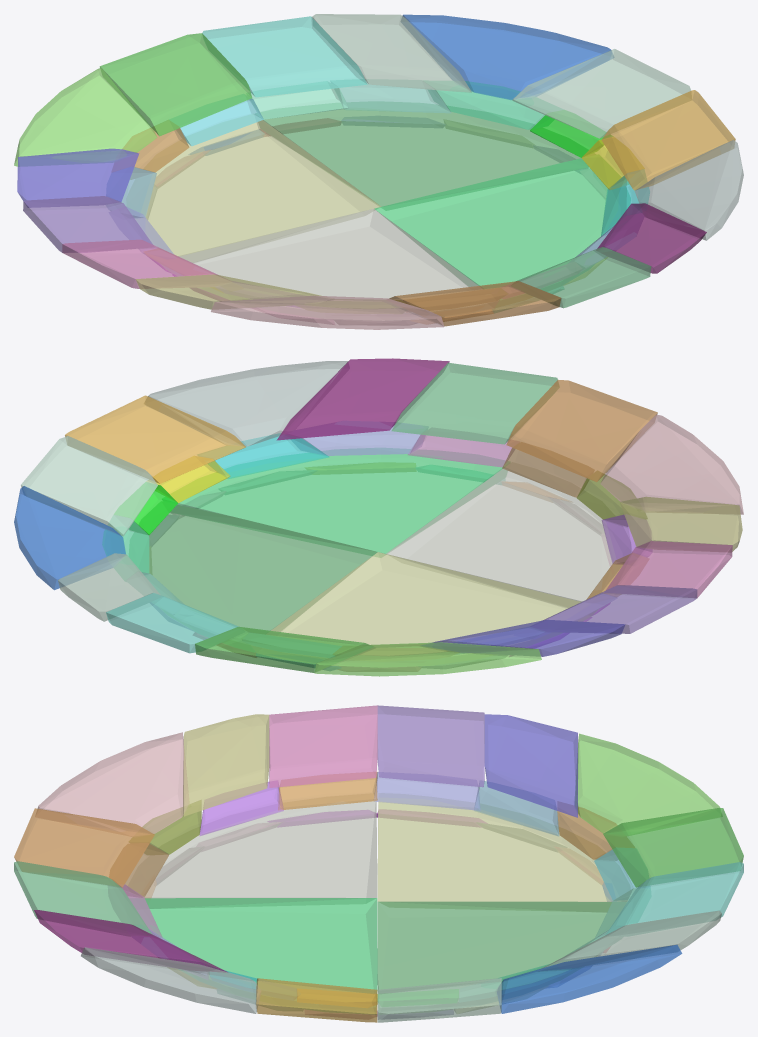
File: plate_compound.dae
3 renders of one model, top to bottom at view 1: azimuth 30°, elevation 25°; view 2: azimuth 150°, elevation 25°; view 3: azimuth 270°, elevation 25°, orthographic.
Visible parts, largest first — view 1: Shape_IndexedFaceSet_003, Shape_IndexedFaceSet_002, Shape_IndexedFaceSet_001, Shape_IndexedFaceSet, Shape_IndexedFaceSet_019, Shape_IndexedFaceSet_015, Shape_IndexedFaceSet_018, Shape_IndexedFaceSet_016, Shape_IndexedFaceSet_014, Shape_IndexedFaceSet_011, Shape_IndexedFaceSet_017, Shape_IndexedFaceSet_010 (+29 smaller); view 2: Shape_IndexedFaceSet_001, Shape_IndexedFaceSet, Shape_IndexedFaceSet_003, Shape_IndexedFaceSet_002, Shape_IndexedFaceSet_010, Shape_IndexedFaceSet_004, Shape_IndexedFaceSet_005, Shape_IndexedFaceSet_008, Shape_IndexedFaceSet_011, Shape_IndexedFaceSet_009, Shape_IndexedFaceSet_018, Shape_IndexedFaceSet_019 (+27 smaller); view 3: Shape_IndexedFaceSet_002, Shape_IndexedFaceSet, Shape_IndexedFaceSet_001, Shape_IndexedFaceSet_003, Shape_IndexedFaceSet_004, Shape_IndexedFaceSet_014, Shape_IndexedFaceSet_007, Shape_IndexedFaceSet_012, Shape_IndexedFaceSet_015, Shape_IndexedFaceSet_005, Shape_IndexedFaceSet_013, Shape_IndexedFaceSet_006 (+29 smaller).
Boxes of the visible parts, box(x1,y1,x2,y2) form: Shape_IndexedFaceSet_003: box(256, 102, 595, 210); Shape_IndexedFaceSet_002: box(127, 114, 381, 267); Shape_IndexedFaceSet_001: box(374, 155, 630, 307); Shape_IndexedFaceSet: box(165, 208, 497, 320); Shape_IndexedFaceSet_019: box(401, 14, 613, 99); Shape_IndexedFaceSet_015: box(99, 33, 252, 136); Shape_IndexedFaceSet_018: box(512, 49, 691, 138); Shape_IndexedFaceSet_016: box(202, 16, 367, 97); Shape_IndexedFaceSet_014: box(14, 68, 157, 166); Shape_IndexedFaceSet_011: box(601, 90, 735, 190); Shape_IndexedFaceSet_017: box(312, 14, 471, 92); Shape_IndexedFaceSet_010: box(634, 140, 743, 240); Shape_IndexedFaceSet_001: box(162, 448, 509, 557); Shape_IndexedFaceSet: box(386, 462, 630, 607); Shape_IndexedFaceSet_003: box(129, 502, 377, 651); Shape_IndexedFaceSet_002: box(252, 552, 595, 667); Shape_IndexedFaceSet_010: box(144, 361, 349, 446); Shape_IndexedFaceSet_004: box(600, 414, 743, 514); Shape_IndexedFaceSet_005: box(506, 379, 657, 482); Shape_IndexedFaceSet_008: box(391, 362, 558, 444); Shape_IndexedFaceSet_011: box(65, 395, 245, 483); Shape_IndexedFaceSet_009: box(276, 358, 449, 440); Shape_IndexedFaceSet_018: box(21, 436, 157, 536); Shape_IndexedFaceSet_019: box(14, 486, 125, 590); Shape_IndexedFaceSet_002: box(377, 793, 630, 911); Shape_IndexedFaceSet: box(128, 794, 377, 908); Shape_IndexedFaceSet_001: box(130, 898, 377, 1014); Shape_IndexedFaceSet_003: box(377, 901, 626, 1014); Shape_IndexedFaceSet_004: box(35, 732, 188, 836); Shape_IndexedFaceSet_014: box(575, 733, 722, 835); Shape_IndexedFaceSet_007: box(269, 705, 377, 787); Shape_IndexedFaceSet_012: box(377, 705, 484, 787); Shape_IndexedFaceSet_015: box(603, 808, 743, 887); Shape_IndexedFaceSet_005: box(14, 808, 154, 887); Shape_IndexedFaceSet_013: box(484, 714, 577, 817); Shape_IndexedFaceSet_006: box(183, 714, 269, 816).
Size of the model in its own units: 0.2573 by 0.2573 by 0.0224.
